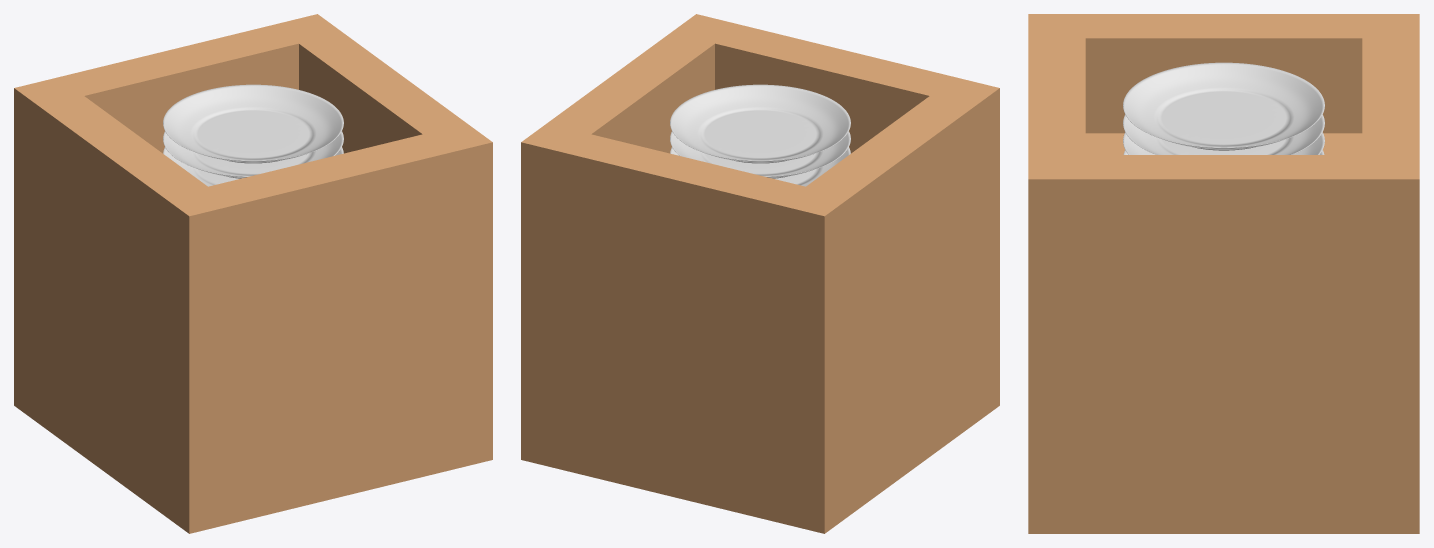
File: PlateStand.fbx
The picture shows the model from 3 angles, left to right: view 1: azimuth 30°, elevation 25°; view 2: azimuth 150°, elevation 25°; view 3: azimuth 270°, elevation 25°; orthographic projection. The views are drawn at different scales.
Visible parts, largest first — view 1: Cube, Plate.004, Plate.003, Plate.002; view 2: Cube, Plate.004, Plate.003, Plate.002; view 3: Cube, Plate.004, Plate.003, Plate.002.
Part boxes in pixels (x1,y1,x2,y2): Cube: [14, 14, 492, 533]; Plate.004: [163, 84, 343, 163]; Plate.003: [163, 131, 343, 178]; Plate.002: [163, 147, 343, 186]; Cube: [521, 14, 999, 533]; Plate.004: [670, 84, 850, 163]; Plate.003: [670, 131, 850, 178]; Plate.002: [670, 147, 850, 186]; Cube: [1028, 14, 1419, 533]; Plate.004: [1123, 62, 1324, 150]; Plate.003: [1123, 114, 1324, 154]; Plate.002: [1123, 132, 1324, 154].
Size of the model in its own units: 1 by 1 by 1.
